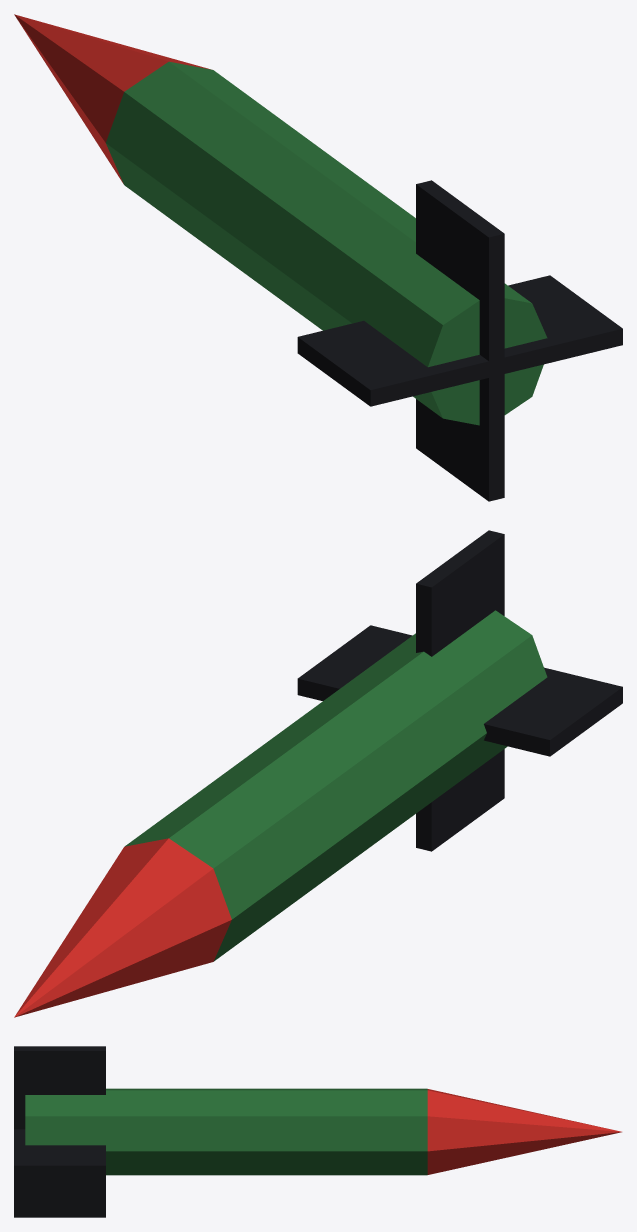
File: wpn_proj_rocket.glb
The picture shows the model from 3 angles, top to bottom: view 1: azimuth 30°, elevation 25°; view 2: azimuth 150°, elevation 25°; view 3: azimuth 270°, elevation 25°; orthographic projection. The views are drawn at different scales.
Visible parts, largest first — view 1: wpn_proj_rocket__body; view 2: wpn_proj_rocket__body; view 3: wpn_proj_rocket__body.
Part boxes in pixels (x1=…): wpn_proj_rocket__body: x1=14, y1=14, x2=622, y2=501; wpn_proj_rocket__body: x1=14, y1=530, x2=622, y2=1017; wpn_proj_rocket__body: x1=14, y1=1046, x2=621, y2=1217.
Size of the model in its own units: 0.16 by 0.16 by 0.53.
